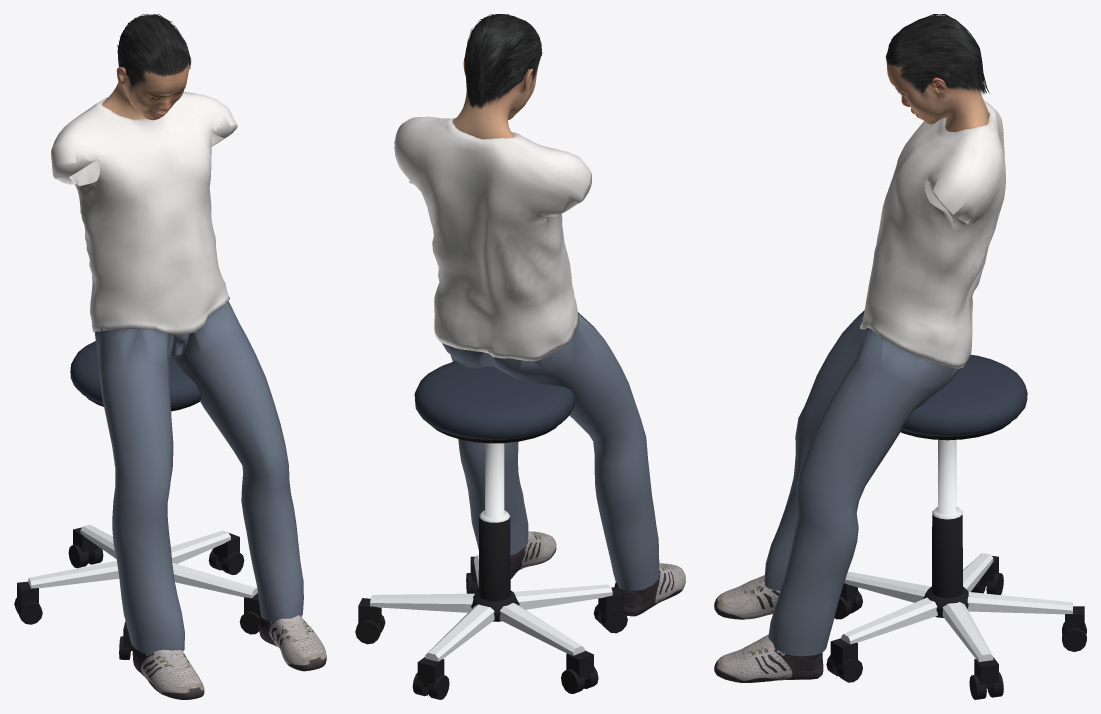
Rendered from therapist.glb.
The picture shows the model from 3 angles, left to right: view 1: azimuth 30°, elevation 25°; view 2: azimuth 150°, elevation 25°; view 3: azimuth 270°, elevation 25°; orthographic projection. The views are drawn at different scales.
Parts seen in each view (by area): view 1: therapist_pants, therapist_shirt, stool, therapist_shoes, therapist_hair, therapist_skin; view 2: therapist_shirt, stool, therapist_pants, therapist_hair, therapist_shoes, therapist_skin; view 3: therapist_pants, therapist_shirt, stool, therapist_hair, therapist_shoes, therapist_skin.
Boxes of the visible parts, <box> form: therapist_pants: <box>94,300,303,654</box>; therapist_shirt: <box>51,91,237,335</box>; stool: <box>14,341,260,659</box>; therapist_shoes: <box>132,612,326,699</box>; therapist_hair: <box>117,14,191,91</box>; therapist_skin: <box>102,63,189,120</box>; therapist_shirt: <box>394,116,591,361</box>; stool: <box>355,361,627,699</box>; therapist_pants: <box>442,312,659,590</box>; therapist_hair: <box>464,14,542,108</box>; therapist_shoes: <box>510,531,685,616</box>; therapist_skin: <box>452,58,538,139</box>; therapist_pants: <box>764,310,960,656</box>; therapist_shirt: <box>860,100,1005,368</box>; stool: <box>826,354,1086,699</box>; therapist_hair: <box>885,14,989,98</box>; therapist_shoes: <box>714,575,823,682</box>; therapist_skin: <box>886,59,989,131</box>.
Size of the model in its own units: 0.6149 by 1.56 by 0.8368.
11 materials, 8 textured.
